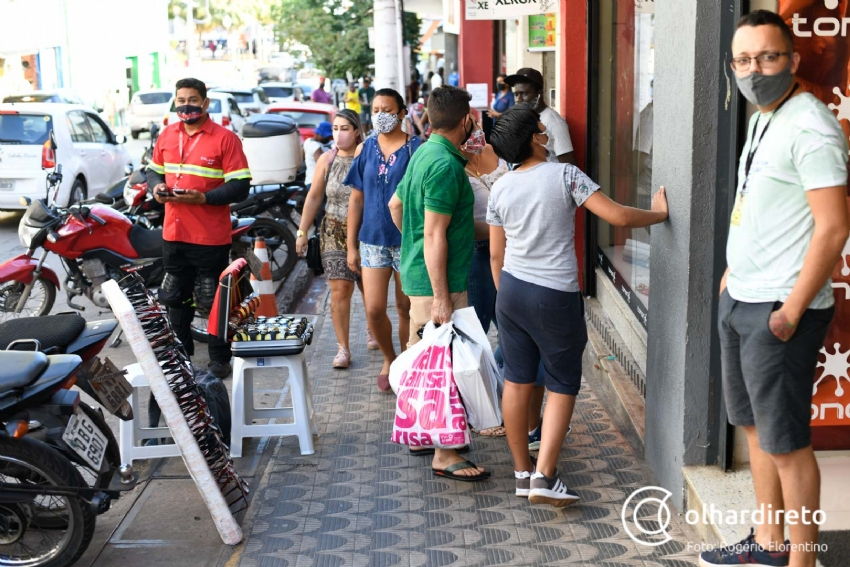mask_weared_incorrect: (727, 35, 803, 110)
